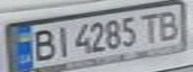2: (87, 18, 109, 53)
4: (72, 20, 93, 55)
5: (118, 15, 142, 47)
8: (103, 16, 124, 51)
B: (27, 26, 57, 62), (154, 7, 184, 42)
I: (51, 22, 72, 58)
T: (136, 10, 163, 43)
